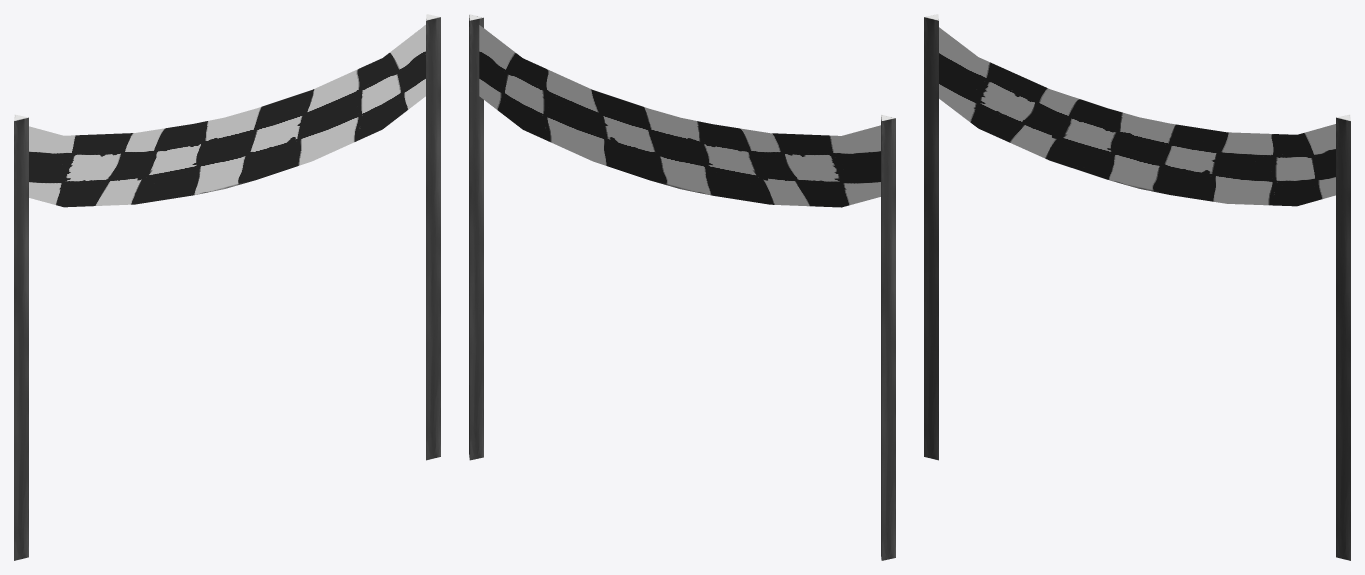
File: finish_line.obj
3 views of the same model, side by side, from view 1: azimuth 30°, elevation 25°; view 2: azimuth 150°, elevation 25°; view 3: azimuth 330°, elevation 25° (orthographic).
Parts seen in each view (by area): view 1: Plane; view 2: Plane; view 3: Plane.
Part boxes in pixels (x1,y1,x2,y2): Plane: (14, 14, 440, 560); Plane: (469, 14, 895, 560); Plane: (924, 14, 1350, 560).
Size of the model in its own units: 2.03 by 2 by 0.0556.
1 material, 1 textured.
